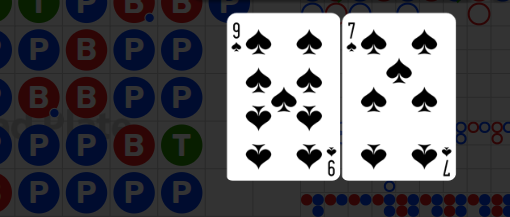7S: (440, 144, 453, 178)
9S: (230, 21, 243, 54)
